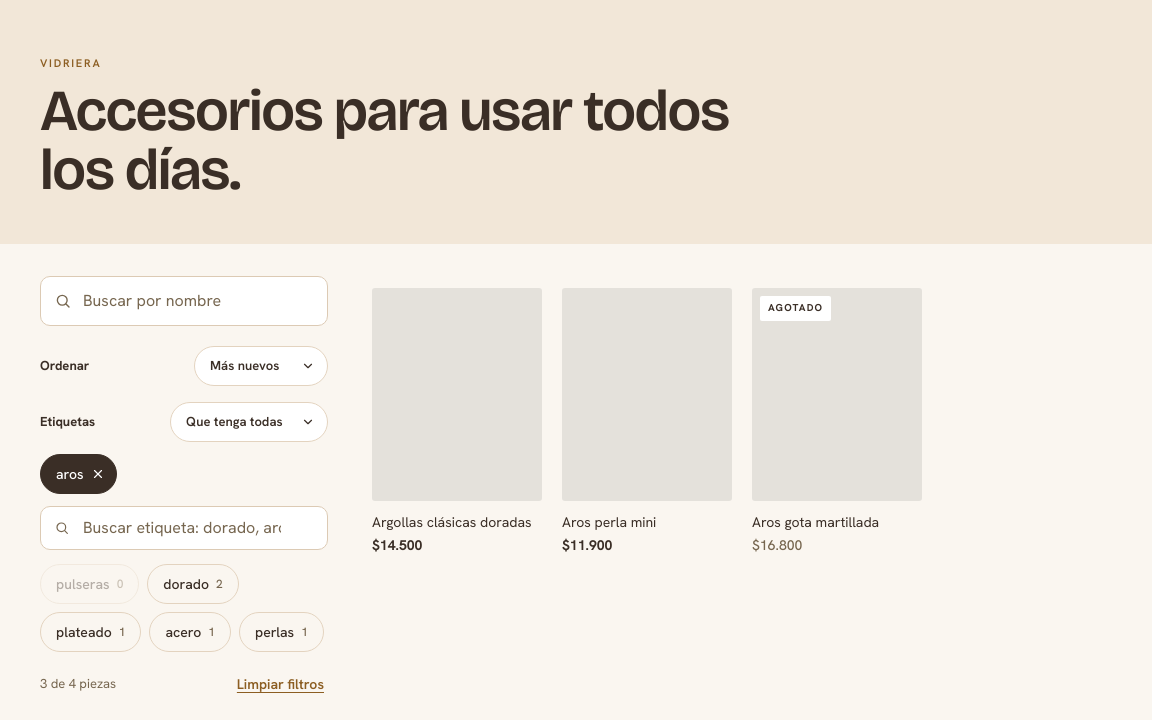
CatalogoPage › una etiqueta desconocida en la URL se ignora y «Limpiar filtros» vuelve a todo
The width and height of the screenshot is (1152, 720).
Check: the text "3 de 4 piezas" is shown, box [40,675,116,694]
Click the button "Limpiar filtros".
click(280, 684)  # box [233,662,328,706]
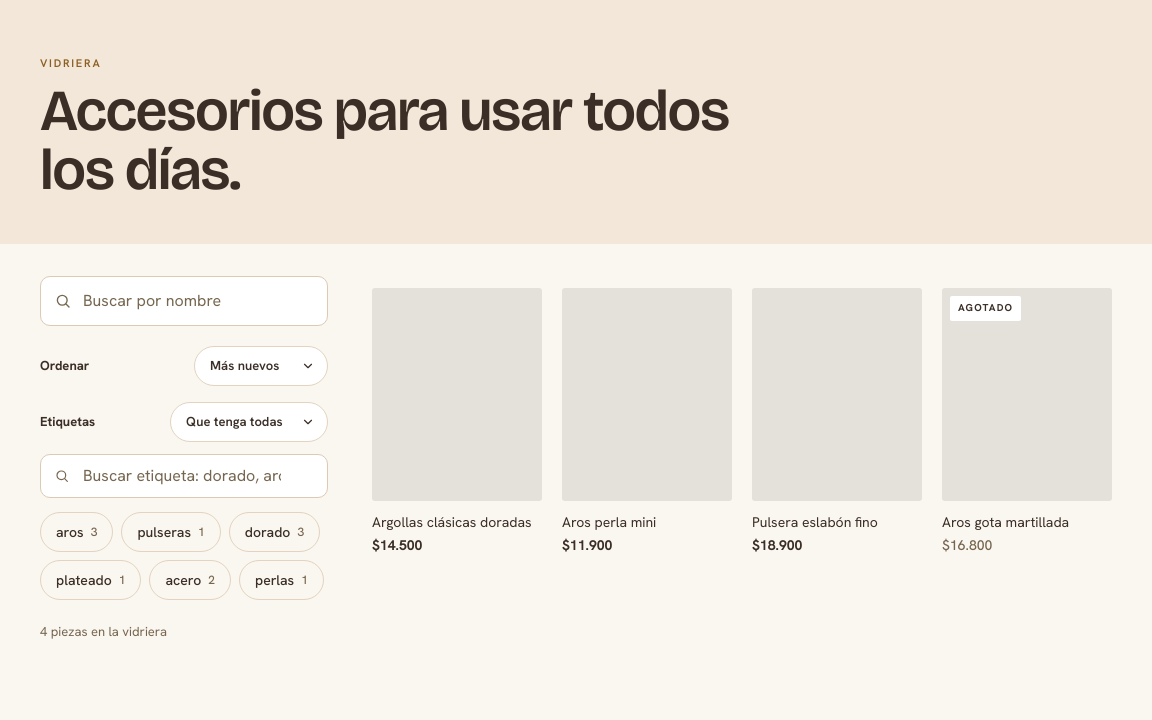
Check: the text "4 piezas en la vidriera" is shown, box [40,623,167,642]
